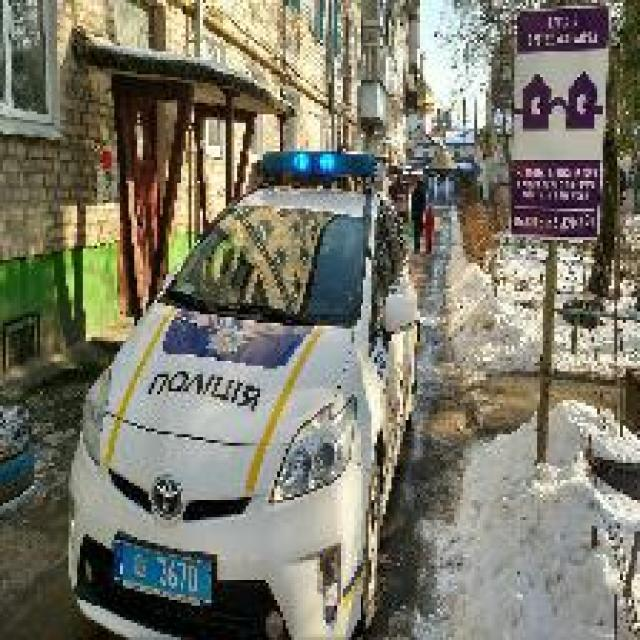emergency: (63, 146, 423, 638)
